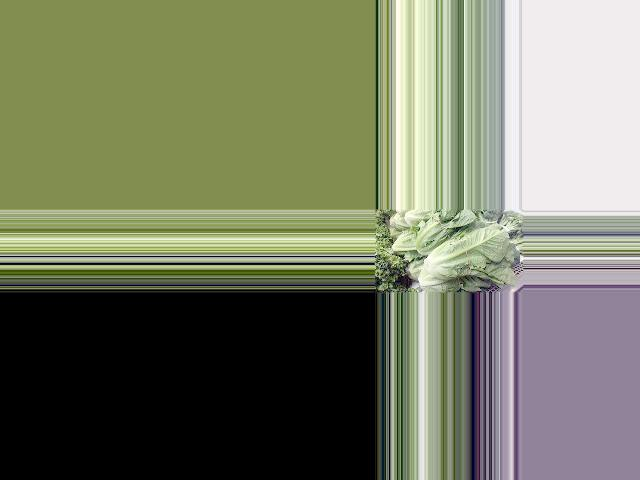lettuce: (412, 212, 478, 253)
